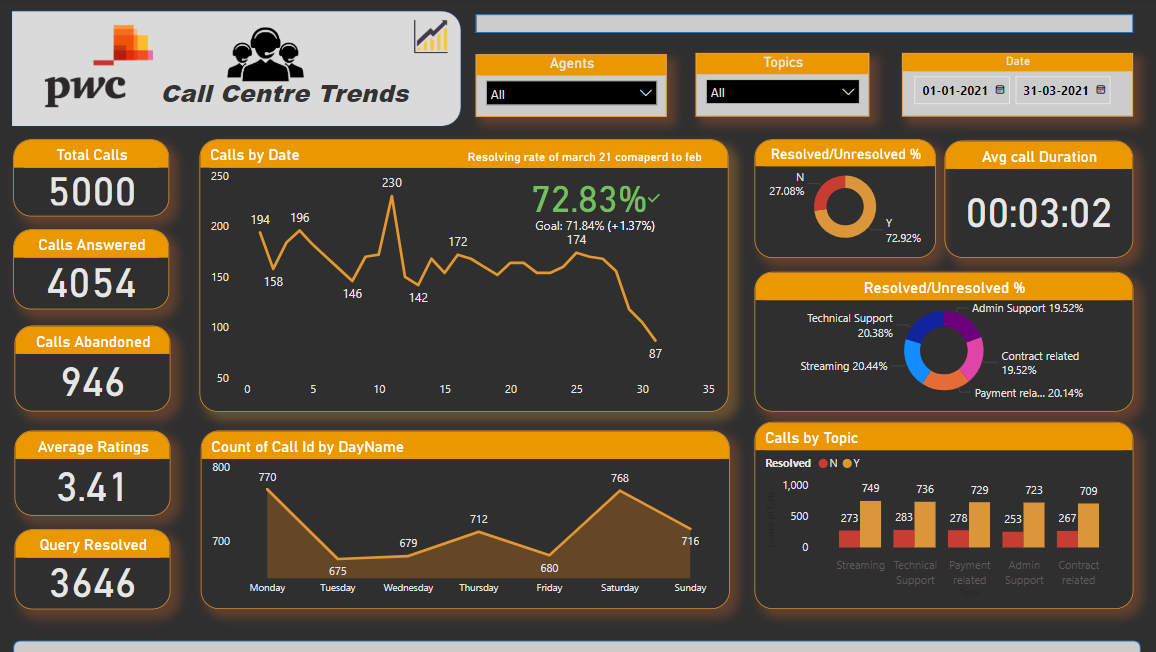

The dashboard page shown, as its layout file describes it:
{"tool":"powerbi","page":{"name":"Page 1","canvas":[1280,720],"ordinal":0},"visuals":[{"type":"textbox","box":[174.3,79.6,322.5,53.5],"z":0},{"type":"card","title":"Calls Answered","fields":{"Values":["Sum(Sheet1.Answered calls values)"]},"box":[24.7,344.4,171.5,89.2],"z":1000},{"type":"card","title":"Calls  Abandoned","fields":{"Values":["Sheet1.not_answered"]},"box":[23.3,474.8,171.5,98.8],"z":2000},{"type":"card","title":"Total Calls","fields":{"Values":["CountNonNull(Sheet1.Answered calls values)"]},"box":[26.1,234.6,171.5,96.1],"z":3000},{"type":"card","title":"Query Resolved","fields":{"Values":["Sum(Sheet1.Resolved values)"]},"box":[23.3,587.3,171.5,87.8],"z":4000},{"type":"lineChart","title":"Calls by Date","fields":{"Category":["Sheet1.Date.Variation.Date Hierarchy.Year","Sheet1.Date.Variation.Date Hierarchy.Quarter","Sheet1.Date.Variation.Date Hierarchy.Month","Sheet1.Date.Variation.Date Hierarchy.Day"],"Y":["CountNonNull(Sheet1.Call Id)"]},"box":[225,146.8,580.4,278.6],"z":5000},{"type":"clusteredColumnChart","title":"Calls by Topic","fields":{"Category":["Sheet1.Topic"],"Y":["CountNonNull(Sheet1.Call Id)"],"Series":["Sheet1.Resolved"]},"box":[831.6,474.8,415.8,196.2],"z":6000},{"type":"donutChart","title":"Resolved/Unresolved %","fields":{"Category":["Sheet1.Resolved"],"Y":["CountNonNull(Sheet1.Call Id)"]},"box":[831.6,155.1,199,130.4],"z":7000},{"type":"lineChart","fields":{"Y":["CountNonNull(Sheet1.Call Id)"],"Category":["Sheet1.DayName"]},"box":[223.7,474.8,580.4,196.2],"z":8000},{"type":"kpi","title":"Resolving rate of march 21 comaperd to feb","fields":{"Indicator":["Sheet1.resolve_Mar"],"Goal":["Sheet1.resolve_Feb"],"TrendLine":["Sheet1.monthNo"]},"box":[514.6,146.8,289.5,108.4],"z":9000},{"type":"card","title":"Avg call Duration","fields":{"Values":["Sheet1.AvgTalk"]},"box":[832.9,304.6,197.6,129],"z":10000},{"type":"slicer","title":"Agents","fields":{"Values":["Sheet1.Agent"]},"box":[525.6,61.7,209.9,68.6],"z":11000},{"type":"shape","box":[17.8,705.3,1237.7,15.1],"z":12000},{"type":"slicer","title":"Topics","fields":{"Values":["Sheet1.Topic"]},"box":[767.1,60.4,190.7,70],"z":13000},{"type":"slicer","title":"Date","fields":{"Values":["Sheet1.Date"]},"box":[993.5,60.4,253.9,70],"z":14000},{"type":"shape","box":[525.6,17.8,721.8,20.6],"z":15000},{"type":"image","box":[395.2,17.8,161.9,49.4],"z":16000},{"type":"image","box":[236,27.4,118,68.6],"z":17000},{"type":"card","title":"Calls Answered","fields":{"Values":["Avg(Sheet1.Speed of answer in seconds)"]},"box":[1038.8,155.1,208.6,130.4],"z":18000},{"type":"gauge","title":"Average  Satisfaction ","fields":{"MaxValue":["Max(Sheet1.Satisfaction rating)"],"Y":["Avg(Sheet1.Satisfaction rating)1"],"TargetValue":["Sheet1.target value"]},"box":[1040.1,304.6,207.2,129],"z":19000},{"type":"image","box":[65.9,142.7,93.3,91.9],"z":20000}]}

Visuals, with their boxes in screenshot pixels (x1, y1, x2, y2), scaled from the page's 1280x720 canvas onto the 1156x652 screenshot:
textbox: locate(157, 72, 449, 121)
"Calls Answered" card: locate(22, 312, 177, 393)
"Calls  Abandoned" card: locate(21, 430, 176, 519)
"Total Calls" card: locate(24, 212, 178, 299)
"Query Resolved" card: locate(21, 532, 176, 611)
"Calls by Date" lineChart: locate(203, 133, 727, 385)
"Calls by Topic" clusteredColumnChart: locate(751, 430, 1127, 608)
"Resolved/Unresolved %" donutChart: locate(751, 140, 931, 259)
lineChart - CountNonNull(Sheet1.Call Id) x Sheet1.DayName: locate(202, 430, 726, 608)
"Resolving rate of march 21 comaperd to feb" kpi: locate(465, 133, 726, 231)
"Avg call Duration" card: locate(752, 276, 931, 393)
"Agents" slicer: locate(475, 56, 664, 118)
shape: locate(16, 639, 1134, 651)
"Topics" slicer: locate(693, 55, 865, 118)
"Date" slicer: locate(897, 55, 1127, 118)
shape: locate(475, 16, 1127, 35)
image: locate(357, 16, 503, 61)
image: locate(213, 25, 320, 87)
"Calls Answered" card: locate(938, 140, 1127, 259)
"Average  Satisfaction " gauge: locate(939, 276, 1126, 393)
image: locate(60, 129, 144, 212)
